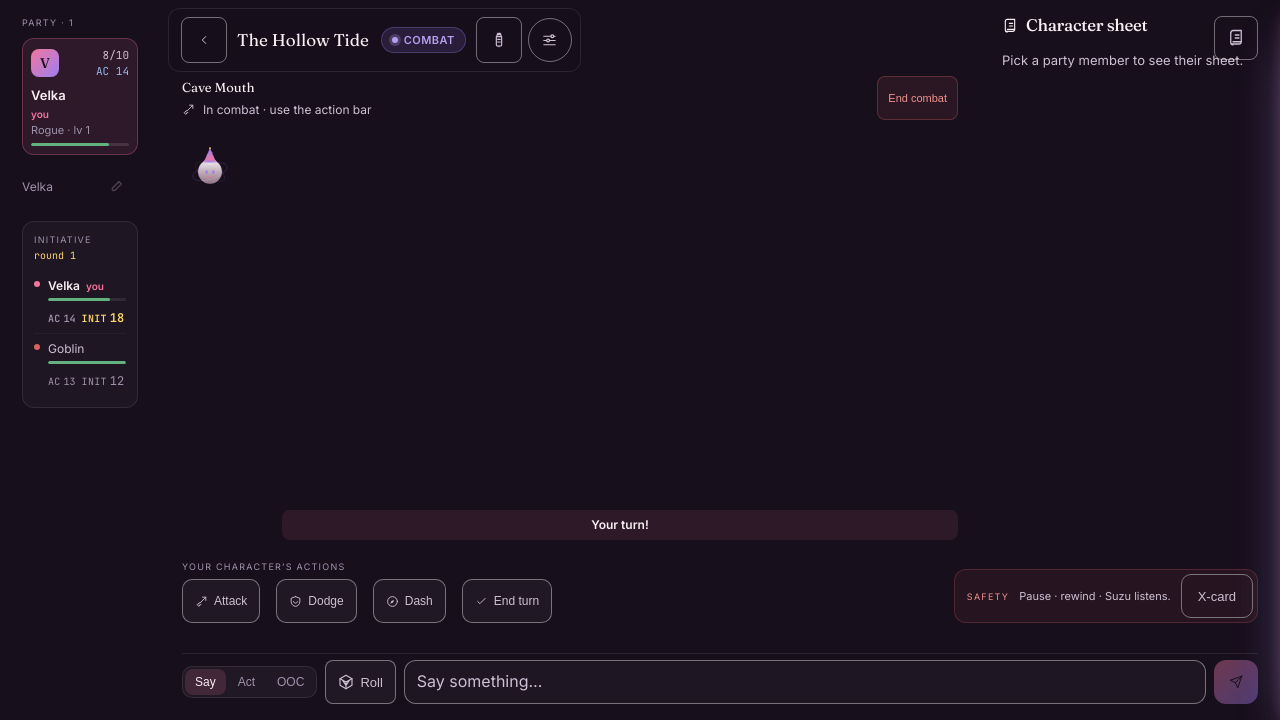
CUI-11 — target picker filters to living enemies › shows living enemy in the target menu
This screenshot has width=1280, height=720.
expect the text "The Hollow Tide" is shown: met, box x1=237 y1=27 x2=369 y2=53
Click the button "Attack" at [221, 601], box x1=182 y1=579 x2=260 y2=623
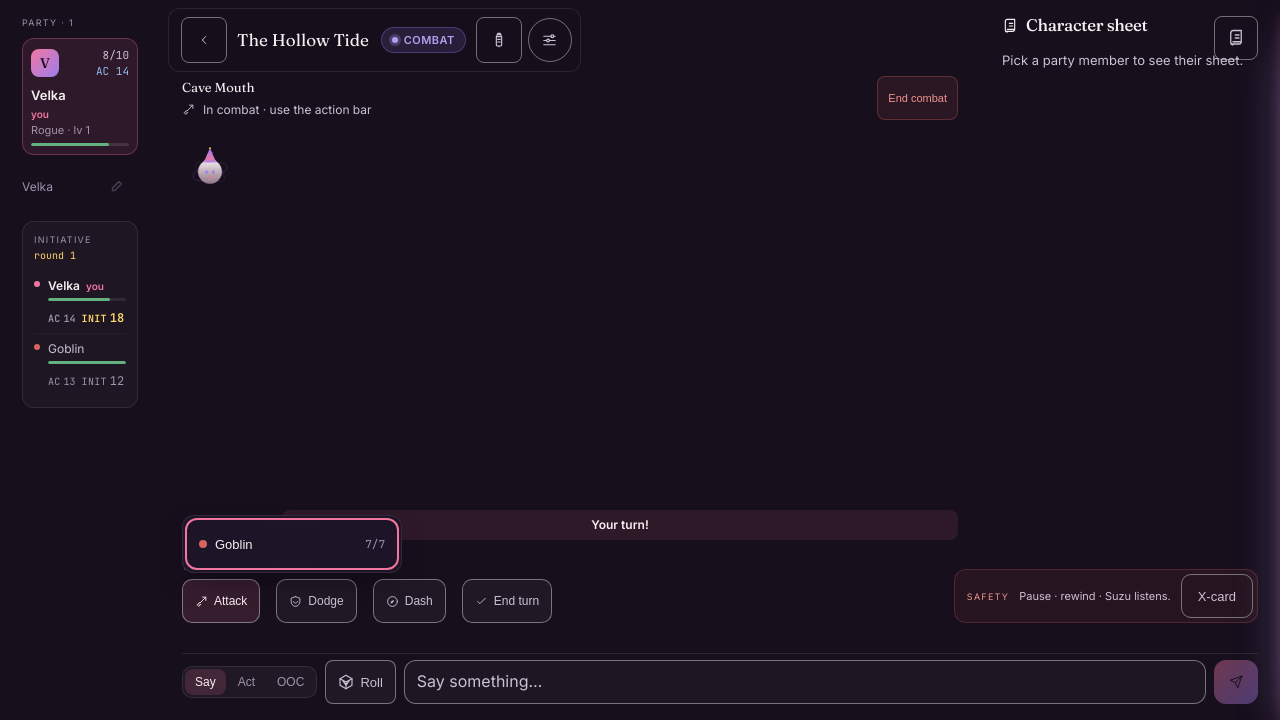
expect the menu is shown: met, box x1=182 y1=515 x2=402 y2=573
expect the menu item "Goblin 7/7" is shown: met, box x1=189 y1=522 x2=395 y2=566
